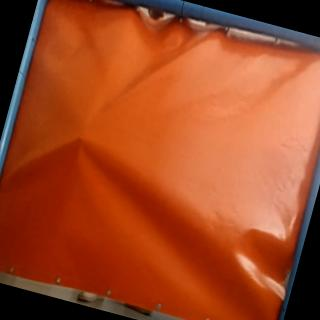Hit-hRxx: (70, 128, 90, 148)
